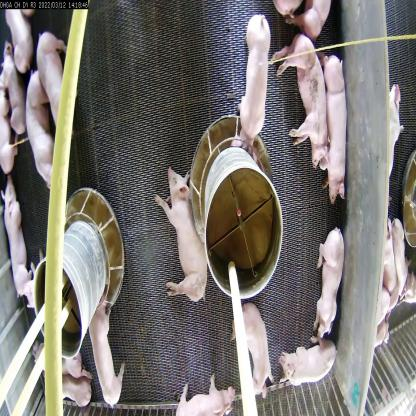Pig: (268, 38, 336, 166), (156, 174, 212, 302), (21, 52, 62, 210), (312, 44, 348, 216), (82, 287, 134, 406), (234, 13, 268, 168), (314, 224, 347, 346), (229, 299, 277, 380), (32, 19, 64, 138), (2, 183, 36, 280), (174, 368, 238, 415), (280, 348, 342, 392)
